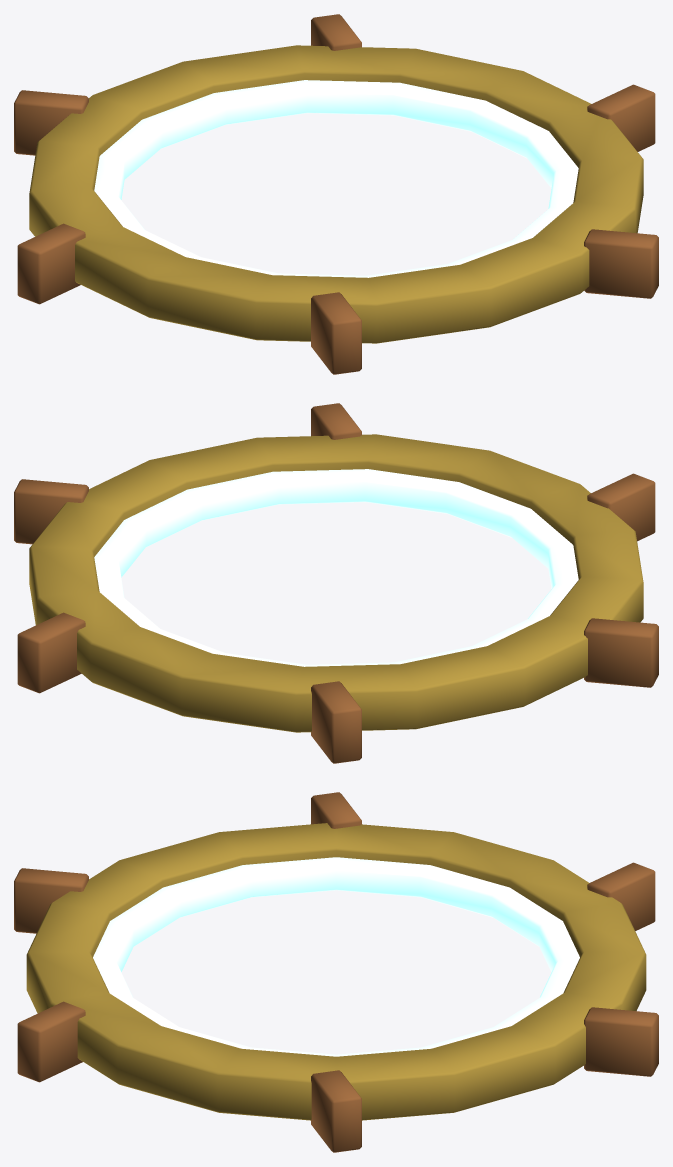
File: relic_voltaic_halo.glb
3 renders of one model, top to bottom at view 1: azimuth 30°, elevation 25°; view 2: azimuth 150°, elevation 25°; view 3: azimuth 270°, elevation 25°, orthographic.
Parts seen in each view (by area): view 1: relic_voltaic_halo_mesh; view 2: relic_voltaic_halo_mesh; view 3: relic_voltaic_halo_mesh.
Boxes of the visible parts, x1=… form: relic_voltaic_halo_mesh: x1=14, y1=14, x2=658, y2=374; relic_voltaic_halo_mesh: x1=14, y1=403, x2=658, y2=763; relic_voltaic_halo_mesh: x1=14, y1=792, x2=658, y2=1152.
Size of the model in its own units: 2.28 by 0.18 by 2.
